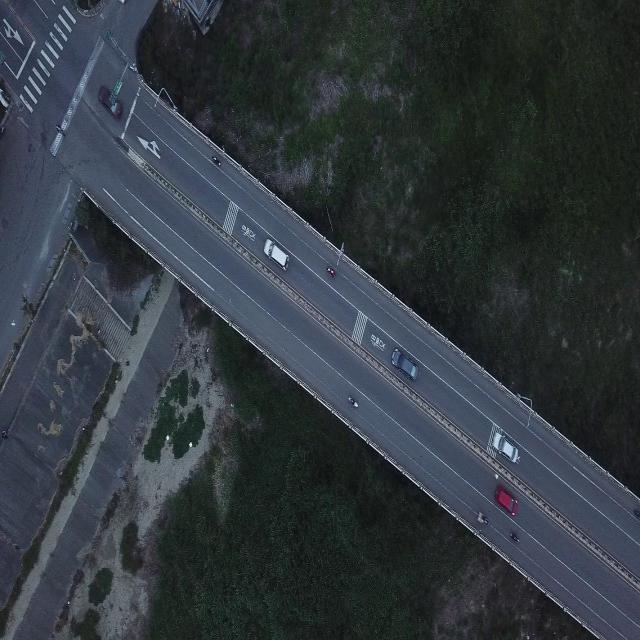bike: (346, 394, 358, 407)
car: (262, 236, 290, 270), (96, 82, 122, 118), (390, 347, 418, 380), (492, 428, 519, 462), (494, 484, 518, 515)
